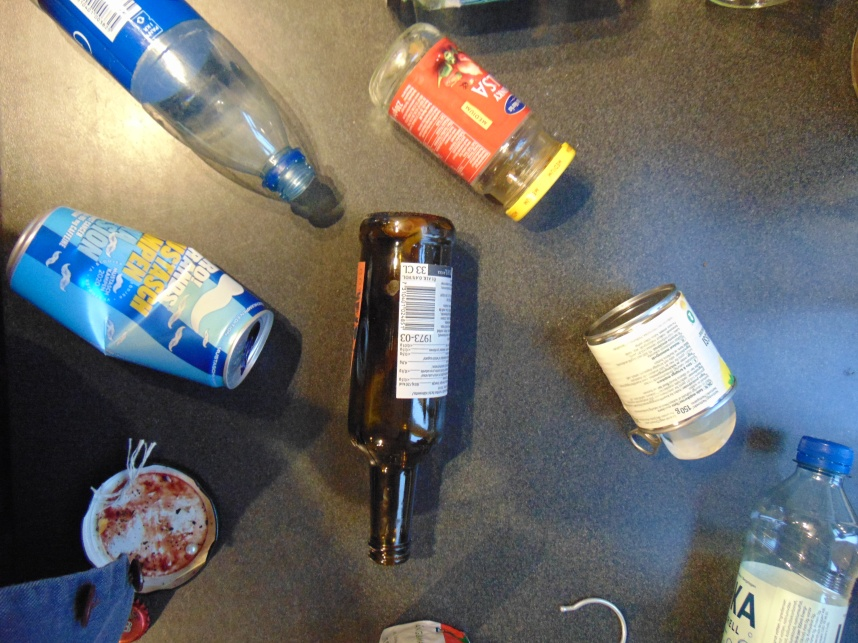glass_bottle: (366, 23, 575, 222), (348, 212, 456, 568)
metal: (79, 458, 220, 594), (623, 427, 735, 462), (558, 593, 630, 643), (125, 607, 152, 641)
metal_can: (7, 205, 274, 393), (579, 280, 737, 459), (701, 1, 795, 7)
plastic_bottle: (27, 1, 318, 203), (717, 435, 858, 643)
